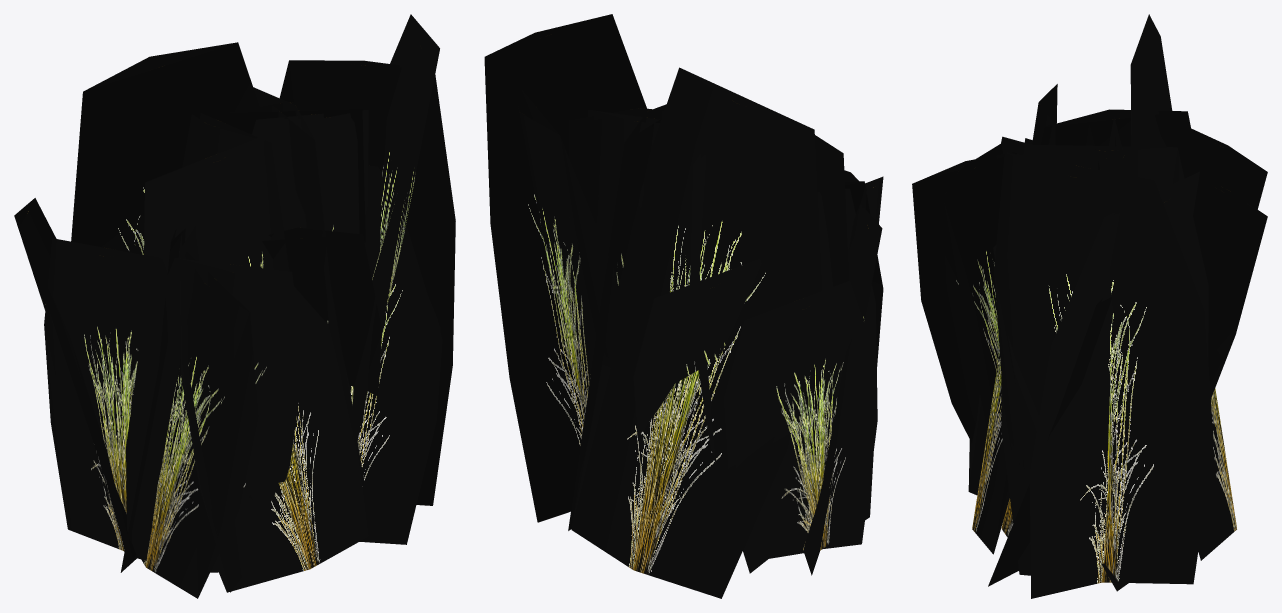
File: waterReeds_01.DAE
The picture shows the model from 3 angles, left to right: view 1: azimuth 30°, elevation 25°; view 2: azimuth 150°, elevation 25°; view 3: azimuth 270°, elevation 25°; orthographic projection.
Parts seen in each view (by area): view 1: WaterReedsOne200, WaterReedsOne100; view 2: WaterReedsOne200, WaterReedsOne100; view 3: WaterReedsOne200, WaterReedsOne100.
Part boxes in pixels (x1,y1,x2,y2): WaterReedsOne200: [14, 14, 455, 598]; WaterReedsOne100: [21, 14, 455, 597]; WaterReedsOne200: [486, 14, 883, 598]; WaterReedsOne100: [484, 14, 883, 597]; WaterReedsOne200: [912, 14, 1266, 598]; WaterReedsOne100: [912, 15, 1267, 596].
Size of the model in its own units: 3.91 by 3.17 by 4.78.
